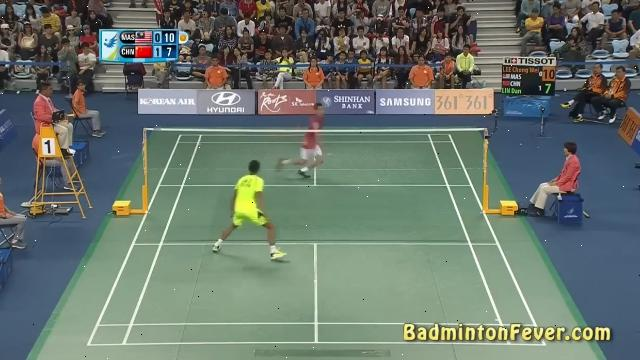Shuttlecock: (366, 108, 376, 116)
